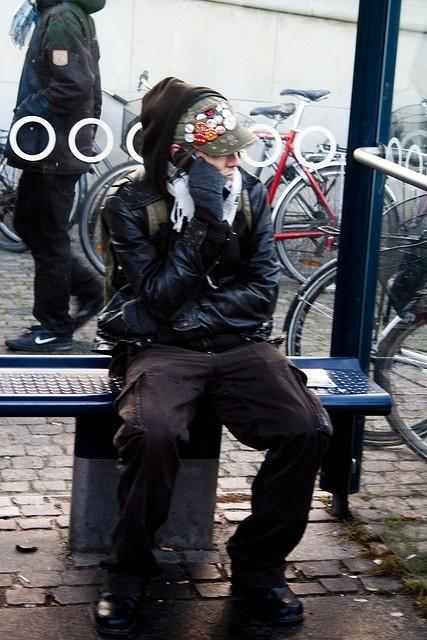bicycle: (251, 90, 401, 284), (284, 244, 424, 448), (137, 72, 296, 176), (0, 129, 88, 251), (371, 290, 426, 461), (84, 160, 142, 272)
